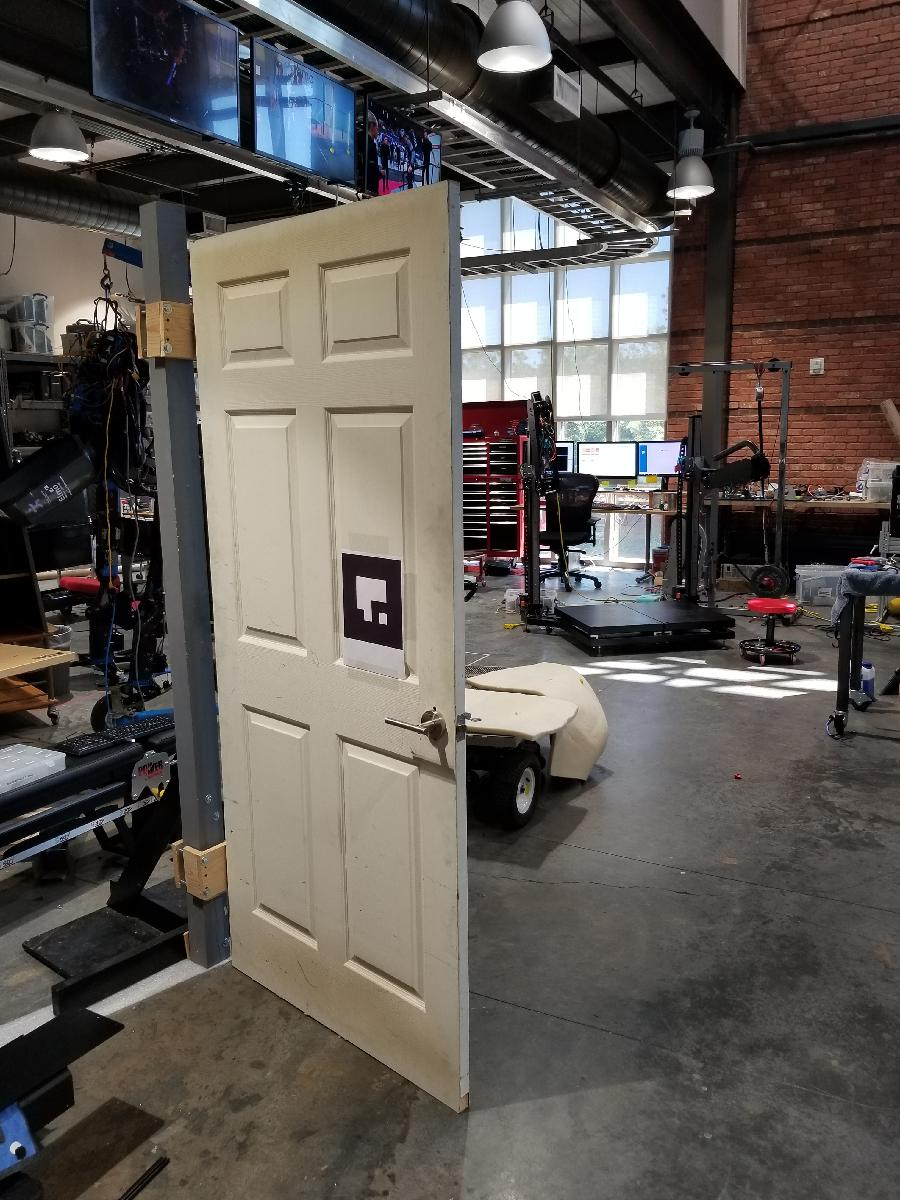door: (185, 177, 476, 1115)
doorHandle: (380, 706, 456, 749)
